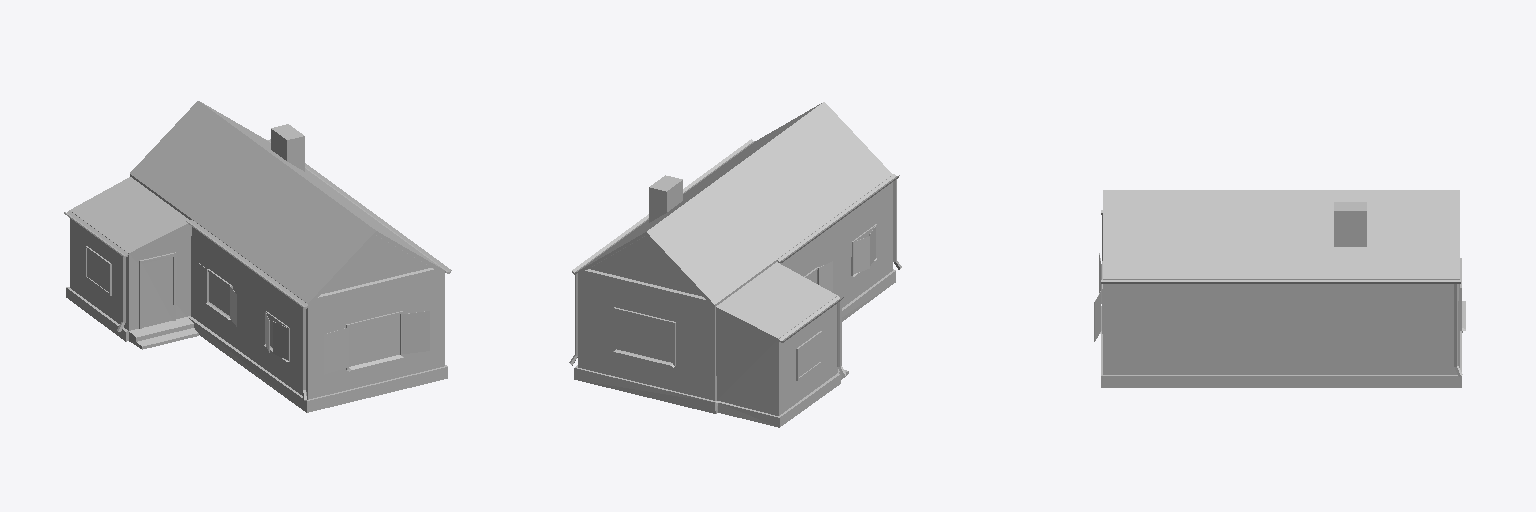
The model's file is casita 1.obj.
The picture shows the model from 3 angles: view 1: azimuth 30°, elevation 25°; view 2: azimuth 150°, elevation 25°; view 3: azimuth 270°, elevation 25°; orthographic projection.
Visible parts, largest first — view 1: house_low_rus_obj:House_by_CheRya_01; view 2: house_low_rus_obj:House_by_CheRya_01; view 3: house_low_rus_obj:House_by_CheRya_01.
Boxes of the visible parts, box(x1,y1,x2,y2) form: house_low_rus_obj:House_by_CheRya_01: box(64, 101, 451, 412); house_low_rus_obj:House_by_CheRya_01: box(569, 102, 901, 427); house_low_rus_obj:House_by_CheRya_01: box(1094, 190, 1465, 387).
Size of the model in its own units: 43.67 by 31.64 by 64.84.